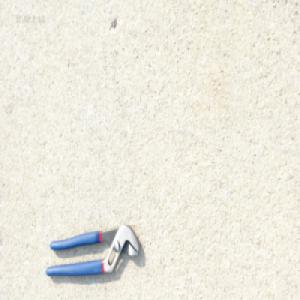Pliers: (44, 220, 141, 277)
